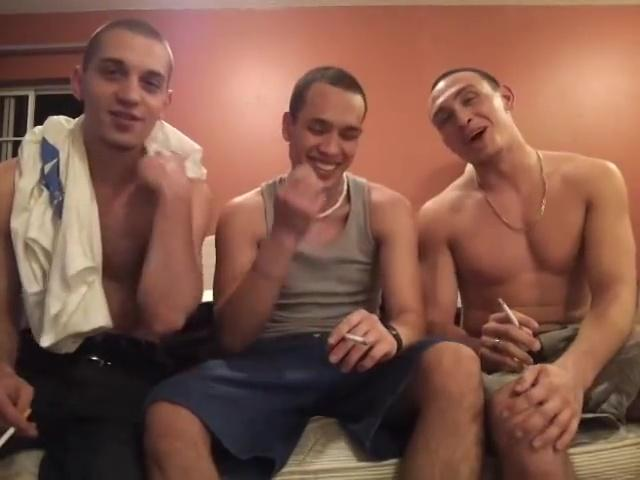cigarette: (0, 406, 30, 447), (497, 292, 525, 329), (339, 333, 371, 349)
